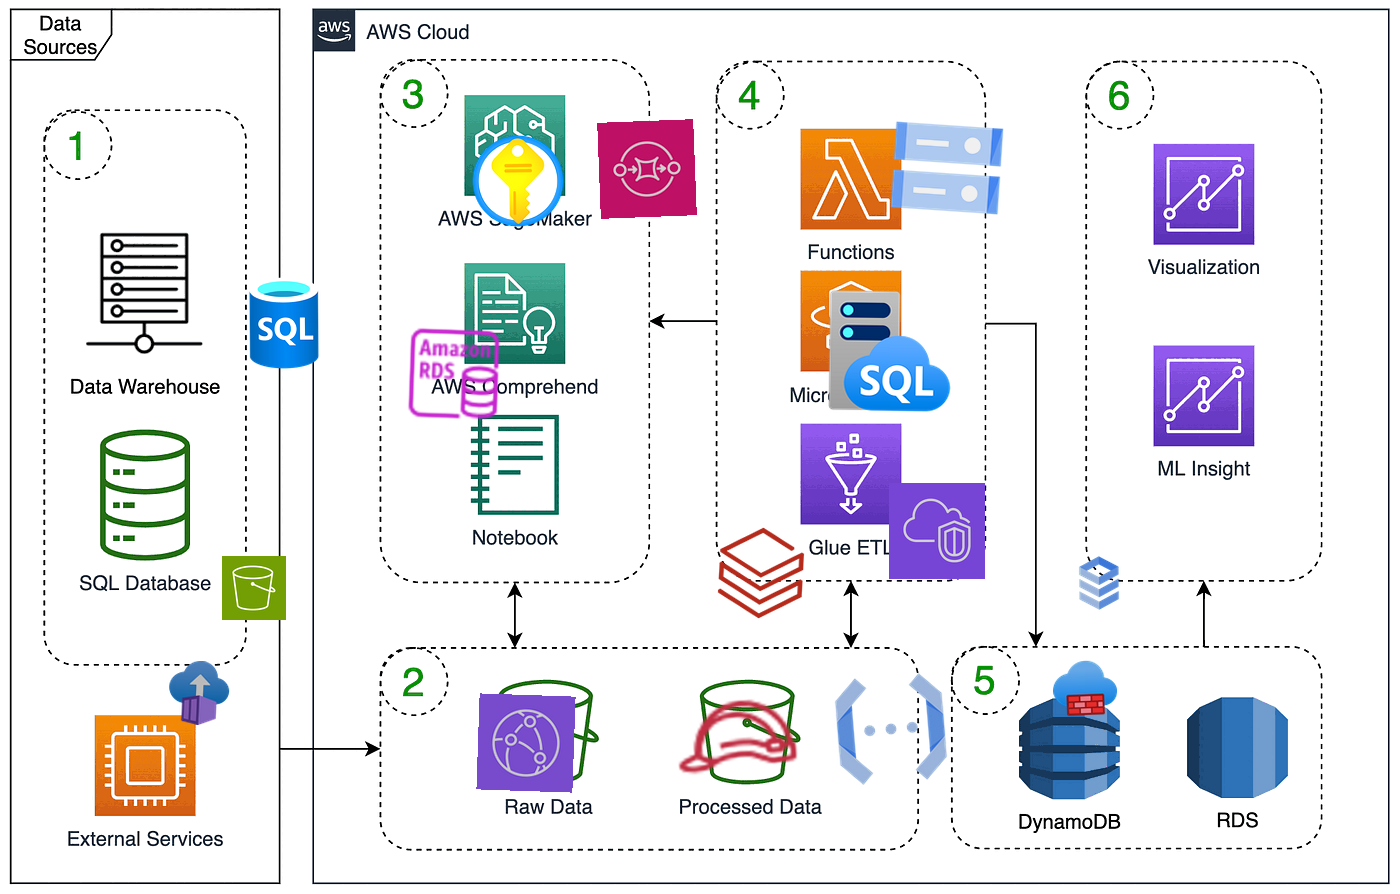aws_amazon_cloudfront: (476, 693, 576, 793)
aws_amazon_simple_queue_service: (597, 119, 697, 219)
aws_amazon_simple_storage_service: (221, 555, 287, 620)
aws_amazon_virtual_private_cloud: (888, 482, 986, 580)
aws_aurora_amazon_rds_instance: (404, 324, 504, 424)
aws_identity_access_management_role: (667, 667, 805, 805)
azure_container_instances: (165, 659, 233, 727)
azure_databricks: (710, 521, 812, 624)
azure_firewalls: (1051, 654, 1119, 722)
azure_key_vaults: (469, 132, 567, 230)
azure_sql_database: (235, 274, 333, 373)
azure_sql_managed_instance: (824, 286, 955, 416)
gcp_cloud_functions: (822, 660, 960, 798)
gcp_cloud_sql: (1066, 550, 1132, 616)
gcp_cloud_storage: (878, 99, 1016, 237)
